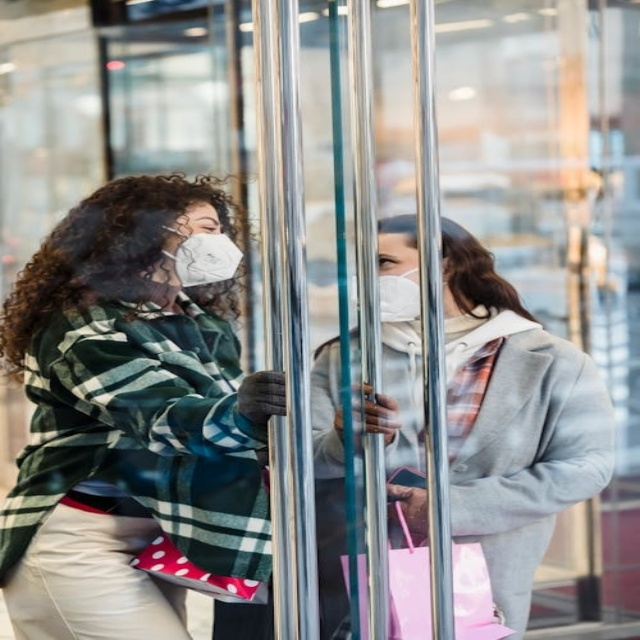Guantes: (328, 377, 403, 437), (380, 474, 439, 535), (225, 363, 292, 415)
Mascara: (161, 228, 245, 288), (358, 270, 422, 323)
Sin_gafas: (376, 247, 419, 270), (175, 214, 229, 232)
